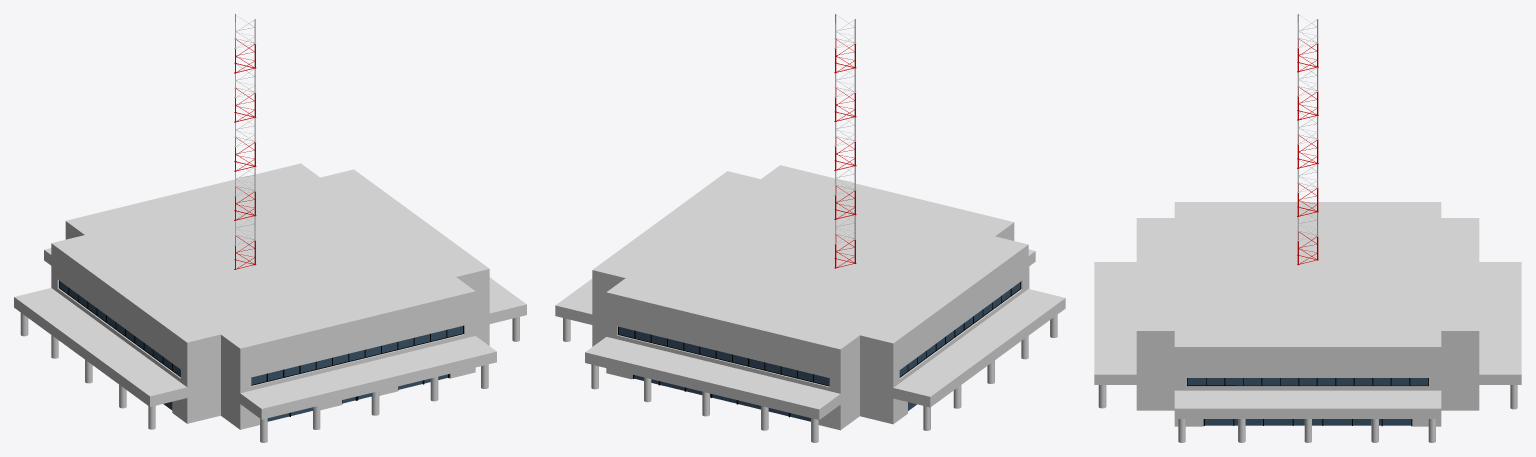
Rendered from BGC 3.fbx.
The picture shows the model from 3 angles, left to right: view 1: azimuth 30°, elevation 25°; view 2: azimuth 150°, elevation 25°; view 3: azimuth 270°, elevation 25°; orthographic projection.
Visible parts, largest first — view 1: BGC3_Roof, BGC3_Base_Top, BGC3_Floor_Main, BGC3_Base_Main, BGC3_Floor_Windows, Antenna, BGC3_Base_Columns, BGC3_Floor_Frame, BGC3_Base_Windows; view 2: BGC3_Roof, BGC3_Base_Top, BGC3_Floor_Main, BGC3_Floor_Windows, BGC3_Base_Main, Antenna, BGC3_Base_Columns, BGC3_Floor_Frame, BGC3_Base_Windows; view 3: BGC3_Roof, BGC3_Base_Top, BGC3_Floor_Main, BGC3_Base_Main, Antenna, BGC3_Floor_Windows, BGC3_Base_Columns, BGC3_Base_Windows, BGC3_Floor_Frame.
Boxes of the visible parts, x1,y1,x2,y2 form: BGC3_Roof: (51, 163, 489, 375); BGC3_Base_Top: (14, 248, 526, 419); BGC3_Floor_Main: (51, 271, 489, 401); BGC3_Base_Main: (172, 323, 489, 429); BGC3_Floor_Windows: (59, 281, 462, 384); Antenna: (234, 14, 256, 269); BGC3_Base_Columns: (20, 313, 519, 442); BGC3_Floor_Frame: (59, 280, 463, 385); BGC3_Base_Windows: (163, 374, 447, 421); BGC3_Roof: (592, 165, 1028, 376); BGC3_Base_Top: (555, 249, 1065, 419); BGC3_Floor_Main: (592, 271, 1028, 402); BGC3_Floor_Windows: (619, 282, 1020, 385); BGC3_Base_Main: (592, 324, 907, 430); Antenna: (834, 14, 856, 268); BGC3_Base_Columns: (563, 266, 1057, 442); BGC3_Floor_Frame: (618, 281, 1020, 386); BGC3_Base_Windows: (634, 375, 916, 421); BGC3_Roof: (1136, 202, 1479, 374); BGC3_Base_Top: (1094, 262, 1521, 418); BGC3_Floor_Main: (1136, 357, 1479, 390); BGC3_Base_Main: (1136, 383, 1479, 426); Antenna: (1297, 14, 1318, 265); BGC3_Floor_Windows: (1187, 378, 1428, 385); BGC3_Base_Columns: (1098, 385, 1517, 442); BGC3_Base_Windows: (1205, 419, 1411, 425); BGC3_Floor_Frame: (1187, 378, 1428, 386).
Bounding box in the file's own units: 3910 × 3242 × 3910.
